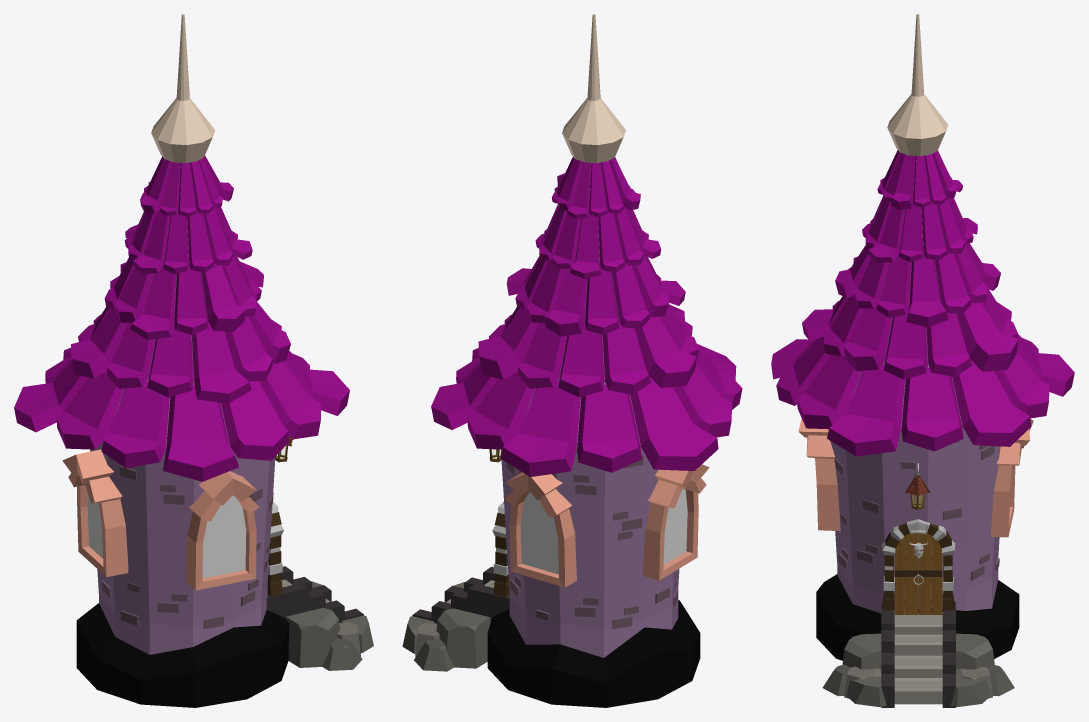
The model's file is wizard_tower.fbx.
The picture shows the model from 3 angles, left to right: view 1: azimuth 30°, elevation 25°; view 2: azimuth 150°, elevation 25°; view 3: azimuth 270°, elevation 25°; orthographic projection. The views are drawn at different scales.
Visible parts, largest first — view 1: Circle.007, Circle_slice.009, Circle_slice.002, Circle.018, Circle.001, Cube.004, Cube.011, Cube.018; view 2: Circle.007, Circle_slice.009, Circle_slice.002, Circle.018, Circle.001, Cube.004, Cube.011, Cube.018; view 3: Circle.007, Circle_slice.009, Circle.018, Cube.018, Circle_slice.002, Cube.003, Circle.001, Cube.004, Cube.011, Cylinder.001.
Part boxes in pixels (left/top/right/bottom): Circle.007: left=14, top=156, right=349, bottom=481; Circle_slice.009: left=76, top=162, right=289, bottom=707; Circle_slice.002: left=62, top=449, right=259, bottom=590; Circle.018: left=285, top=581, right=373, bottom=670; Circle.001: left=151, top=14, right=214, bottom=162; Cube.004: left=266, top=566, right=363, bottom=622; Cube.011: left=102, top=465, right=273, bottom=628; Cube.018: left=267, top=502, right=283, bottom=596; Circle.007: left=431, top=156, right=742, bottom=476; Circle_slice.009: left=487, top=162, right=700, bottom=707; Circle_slice.002: left=504, top=464, right=709, bottom=587; Circle.018: left=402, top=582, right=490, bottom=671; Circle.001: left=562, top=14, right=625, bottom=162; Cube.004: left=412, top=567, right=509, bottom=623; Cube.011: left=506, top=455, right=678, bottom=629; Cube.018: left=492, top=502, right=509, bottom=596; Circle.007: left=771, top=150, right=1074, bottom=456; Circle_slice.009: left=816, top=158, right=1019, bottom=660; Circle.018: left=822, top=633, right=1014, bottom=707; Cube.018: left=882, top=519, right=955, bottom=614; Circle_slice.002: left=798, top=418, right=1033, bottom=537; Cube.003: left=894, top=612, right=942, bottom=704; Circle.001: left=887, top=14, right=948, bottom=156; Cube.004: left=881, top=601, right=955, bottom=707; Cube.011: left=835, top=441, right=999, bottom=580; Cylinder.001: left=905, top=475, right=930, bottom=509.
Bounding box in the file's own units: 902 × 1847 × 822.
